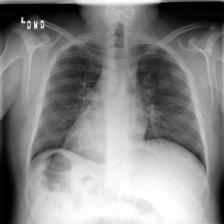normal: (25, 33, 211, 179)
